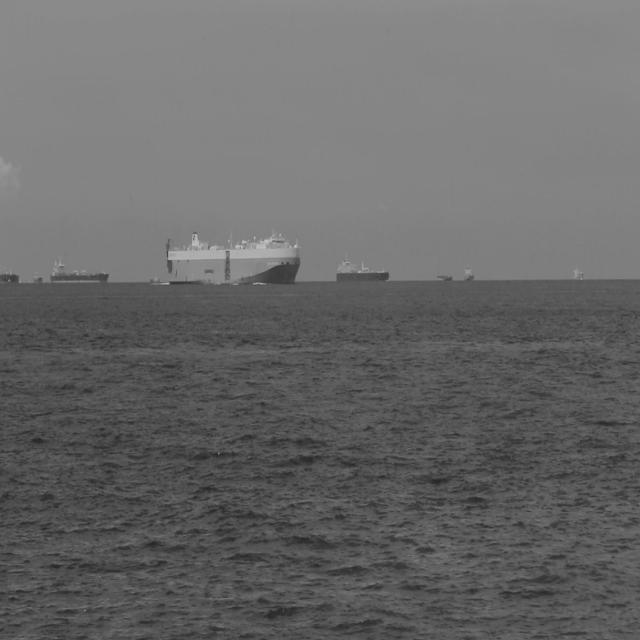boat: (149, 274, 160, 284)
ship: (164, 226, 300, 286), (49, 255, 110, 285), (336, 254, 390, 284), (0, 264, 20, 285), (463, 264, 475, 282), (572, 263, 584, 281), (32, 268, 43, 285), (436, 273, 453, 281), (6, 277, 12, 284)
